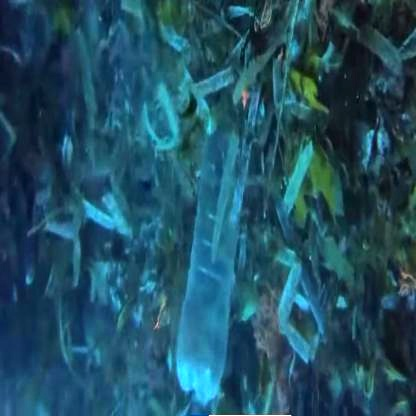pbottle: (186, 89, 246, 416)
